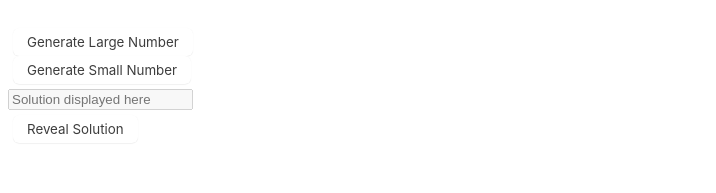
Test: NumbersGame › generates small number when "Generate Small Number" button is clicked
The width and height of the screenshot is (716, 193).
Click the button "Generate Small Number" at (102, 70), box [13, 56, 191, 84]
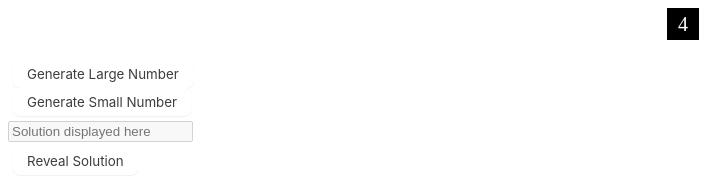
expect the text "4" is shown: met, box [667, 8, 699, 40]
